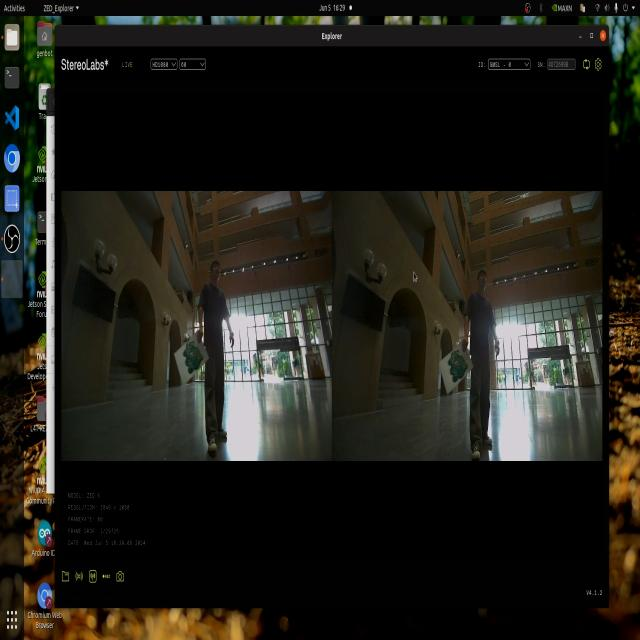green: (178, 337, 206, 372), (447, 353, 469, 388)
